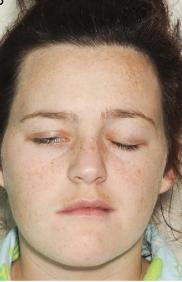strokeEyeSevere: (19, 103, 155, 161)
